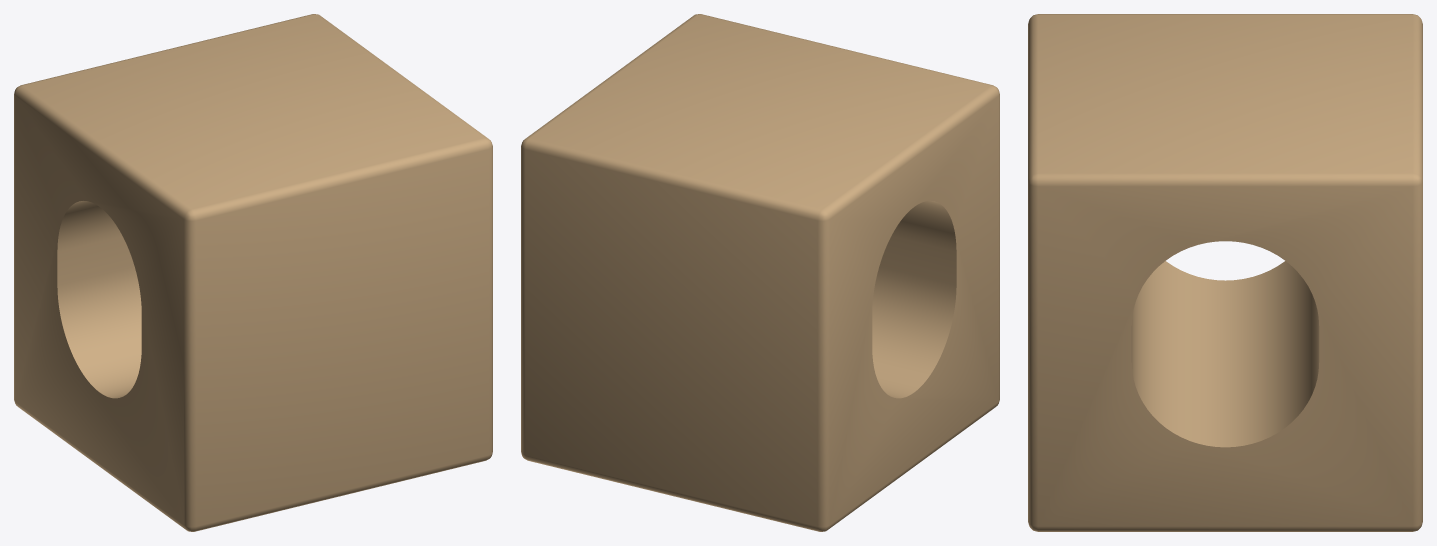
The model's file is mech_checkpoint_l1.glb.
3 renders of one model, left to right at view 1: azimuth 30°, elevation 25°; view 2: azimuth 150°, elevation 25°; view 3: azimuth 270°, elevation 25°, orthographic. The views are drawn at different scales.
Visible parts, largest first — view 1: mech_checkpoint_l1_lod0; view 2: mech_checkpoint_l1_lod0; view 3: mech_checkpoint_l1_lod0.
Boxes of the visible parts, box(x1,y1,x2,y2) form: mech_checkpoint_l1_lod0: box(14, 14, 492, 531); mech_checkpoint_l1_lod0: box(521, 14, 999, 531); mech_checkpoint_l1_lod0: box(1028, 14, 1422, 531).
Size of what is drawn, in the model's own units: 0.059 by 0.059 by 0.059.
